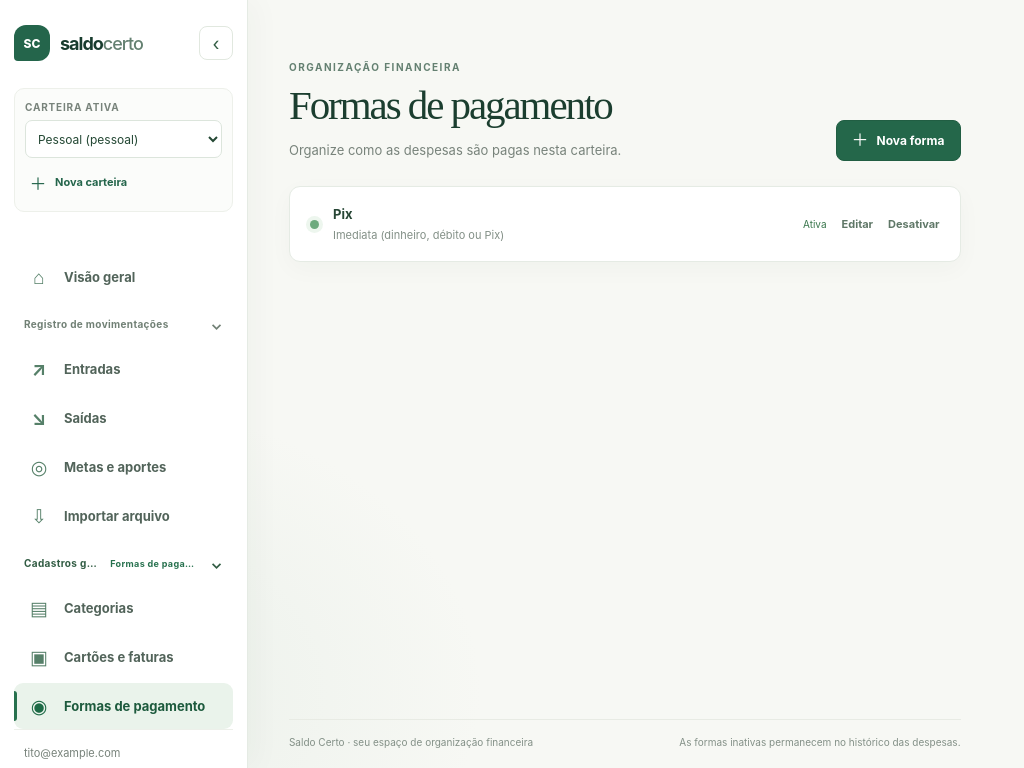
PaymentMethodsPage › offers one grouped VA/VR nature and keeps AHO separate
Expected: the dropdown labelled "Carteira ativa" is shown, [25, 120, 222, 158]
Step 1. Click the button "＋ Nova forma" → (898, 141), box [836, 120, 961, 161]
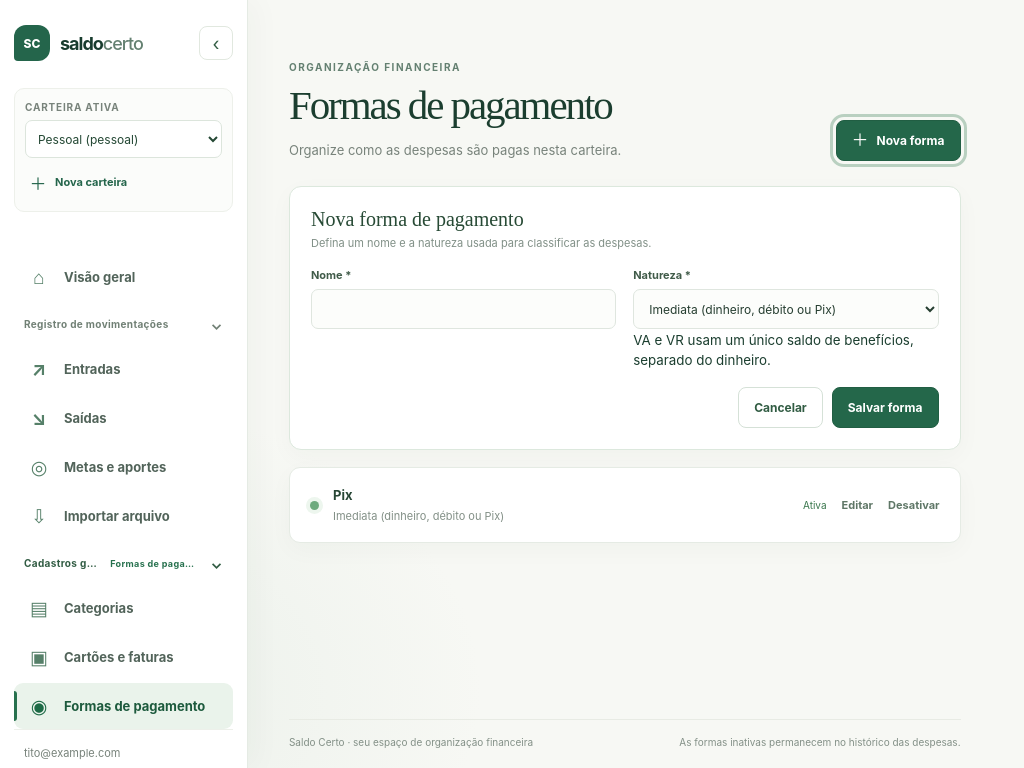
Now the dropdown labelled "Natureza *" shows "Imediata (dinheiro, débito ou Pix)", box [633, 289, 938, 329]
